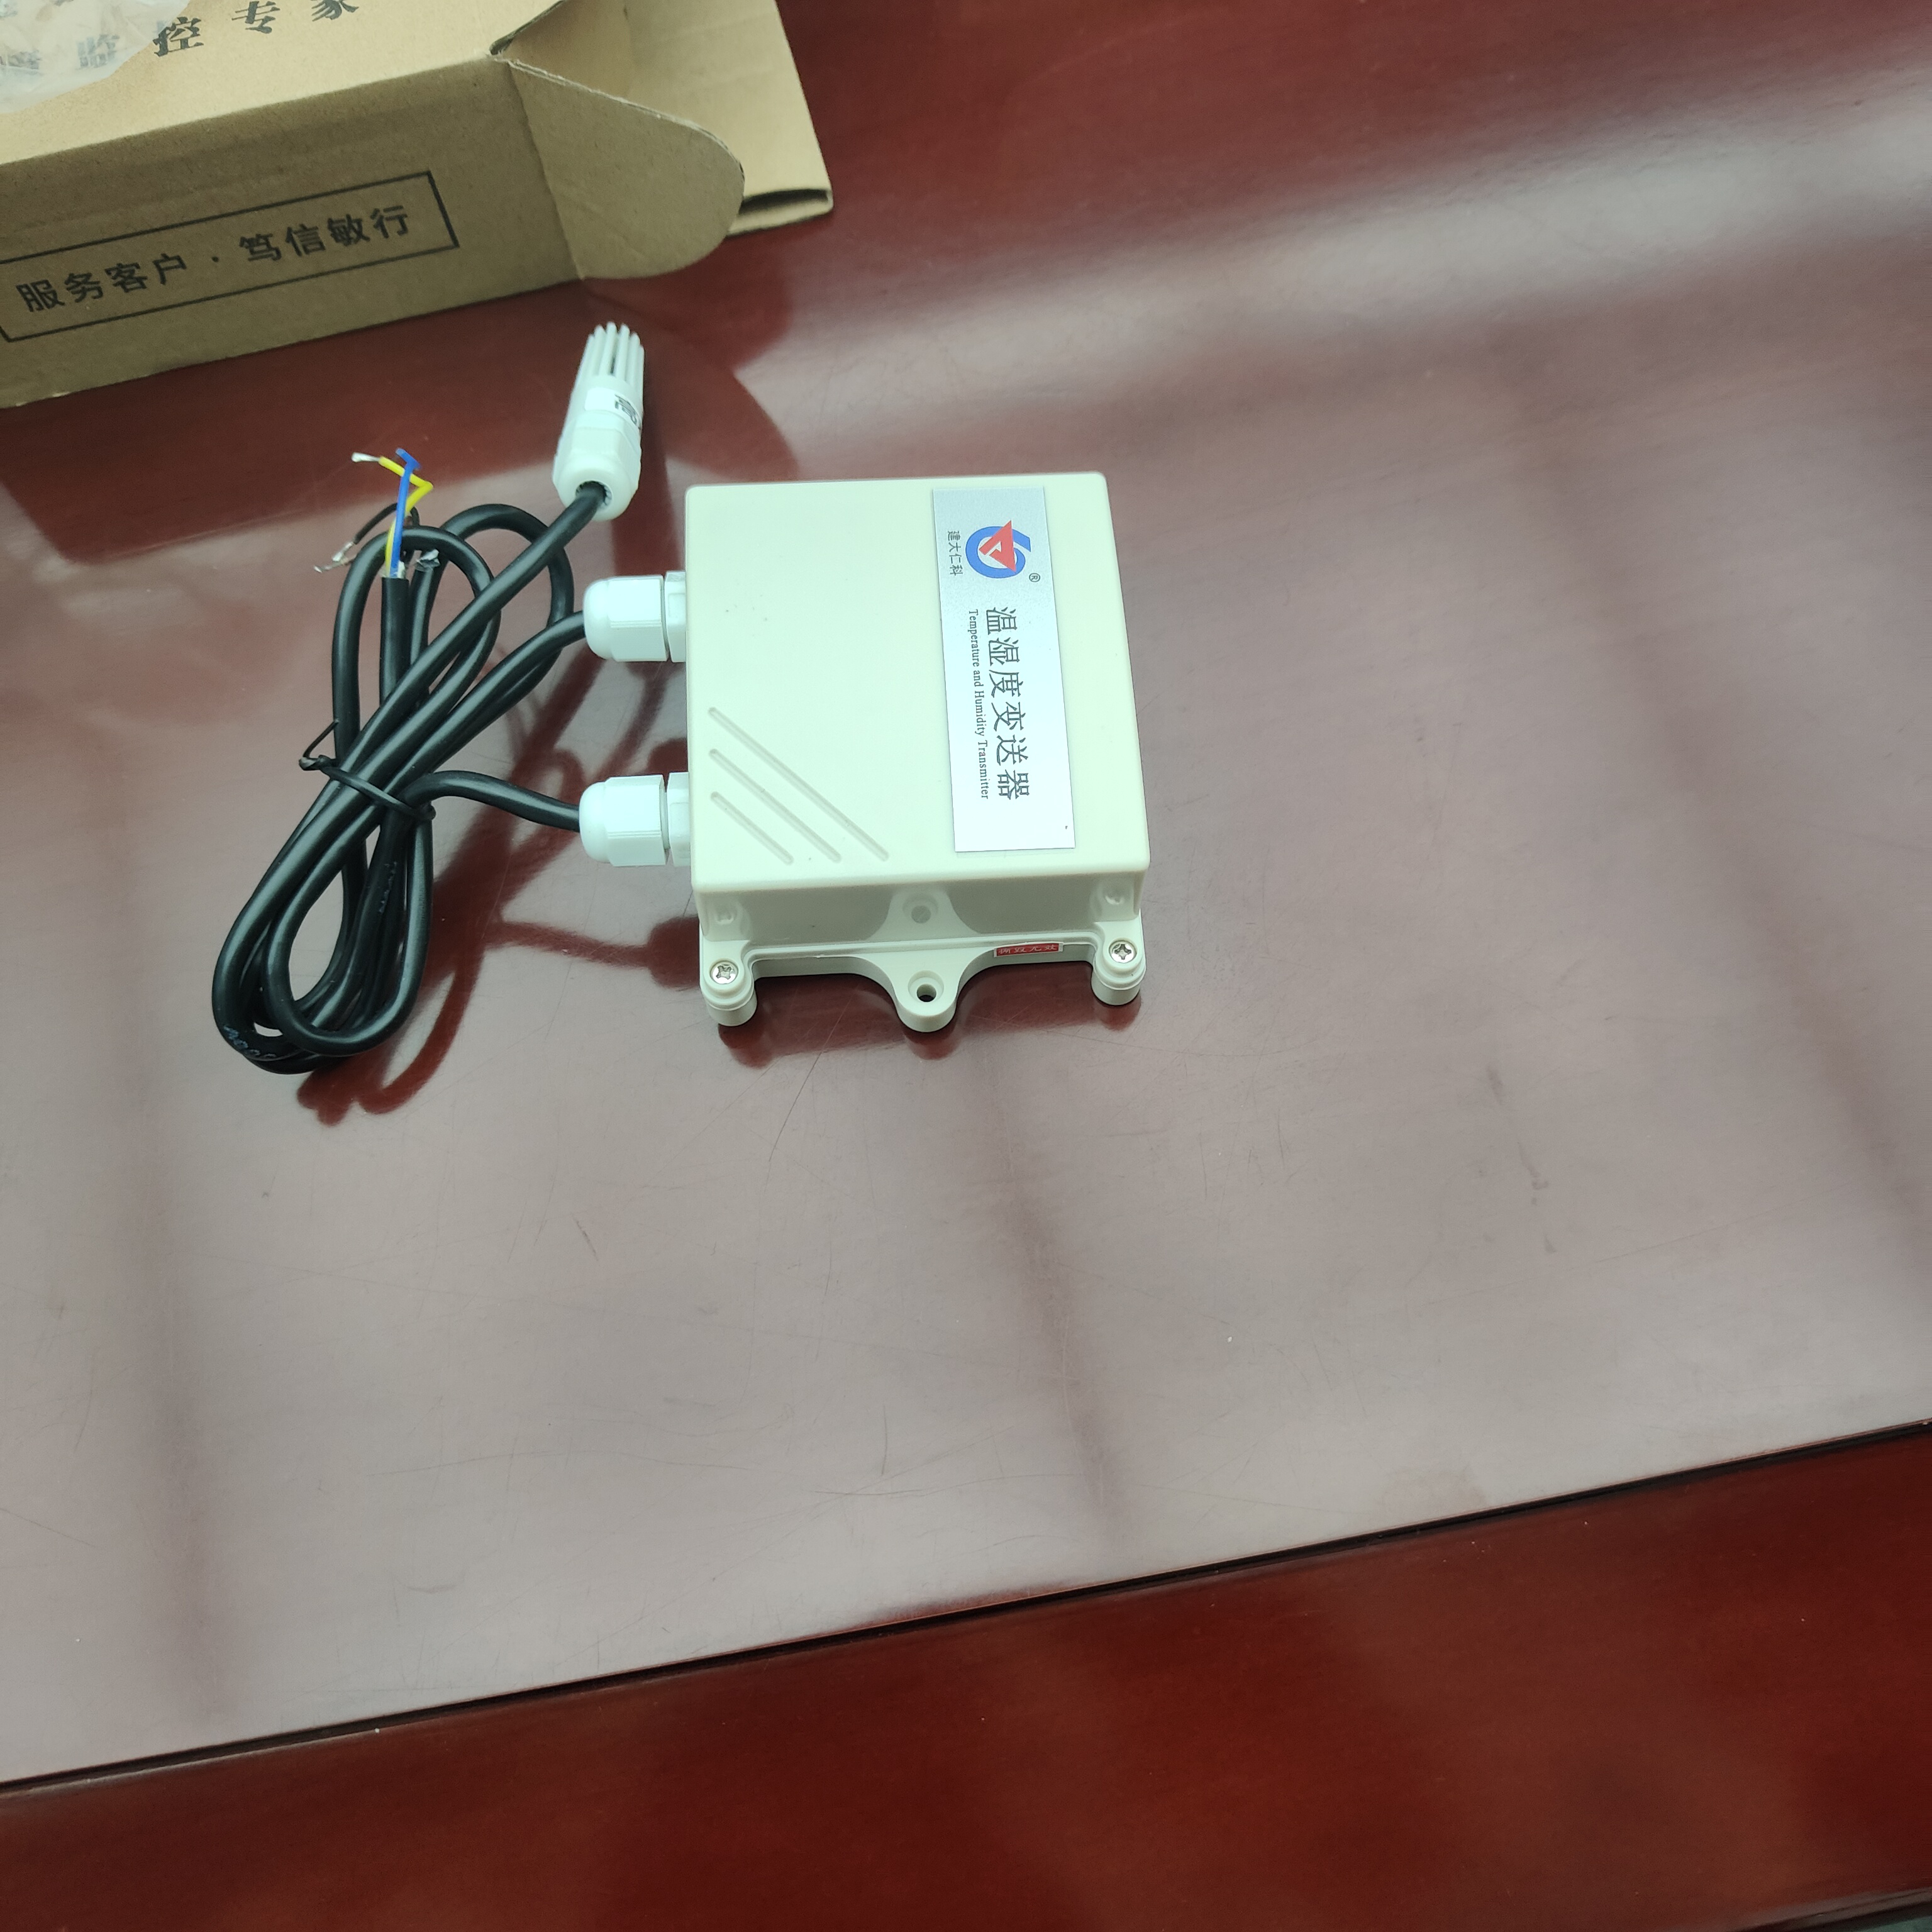wsdbsq: (575, 430, 1201, 1074)
